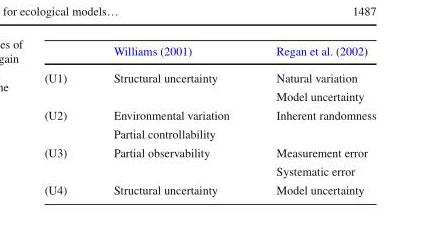table: (43, 43, 375, 196)
table column: (89, 43, 252, 196), (252, 43, 375, 196), (43, 43, 89, 196)
table column header: (43, 43, 375, 63)
table row: (43, 63, 375, 86), (43, 43, 375, 63), (43, 86, 375, 105), (43, 105, 375, 124), (43, 142, 375, 161), (43, 161, 375, 180), (43, 124, 375, 142), (43, 180, 375, 196)
table spanning cell: (89, 63, 252, 105), (89, 142, 252, 180), (252, 105, 375, 142), (43, 63, 89, 105), (43, 142, 89, 180), (43, 105, 89, 142)
